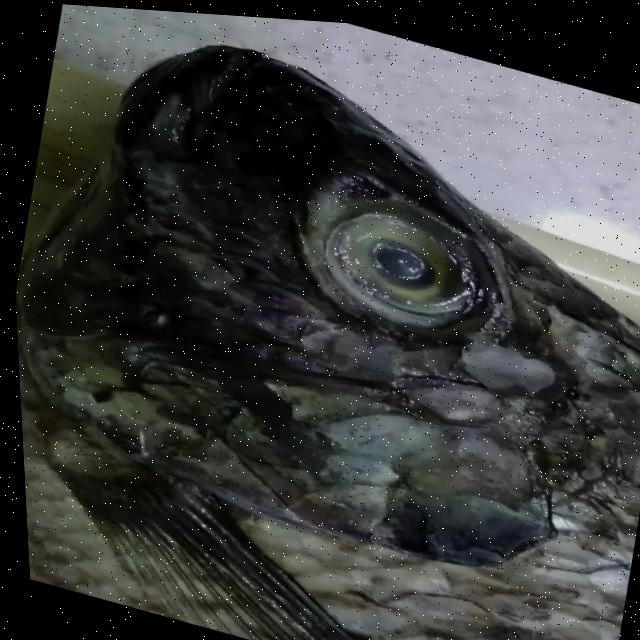Non-Fresh: (246, 156, 537, 374)
